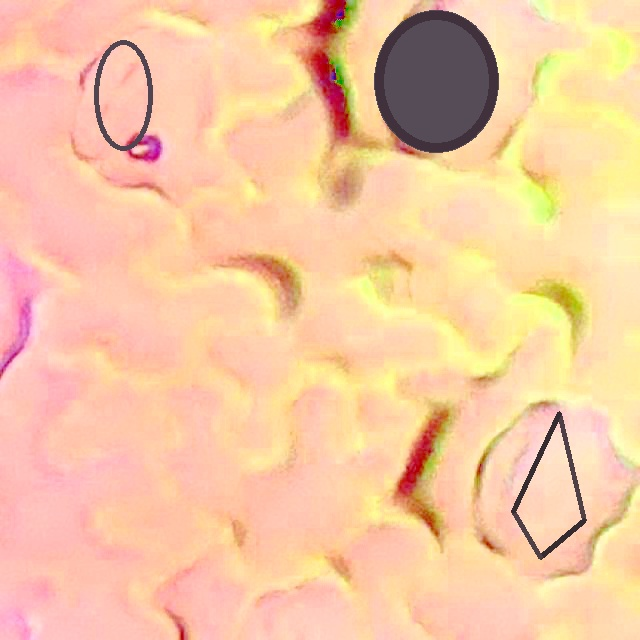close: (511, 411, 586, 559), (93, 40, 154, 150)
open: (373, 10, 498, 152)
